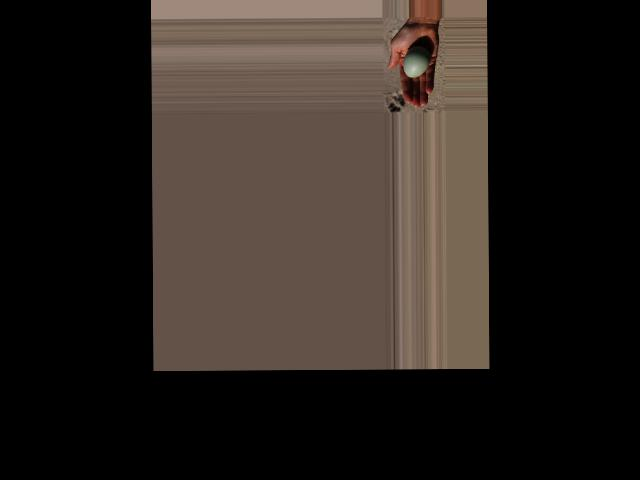egg: (403, 46, 430, 78)
